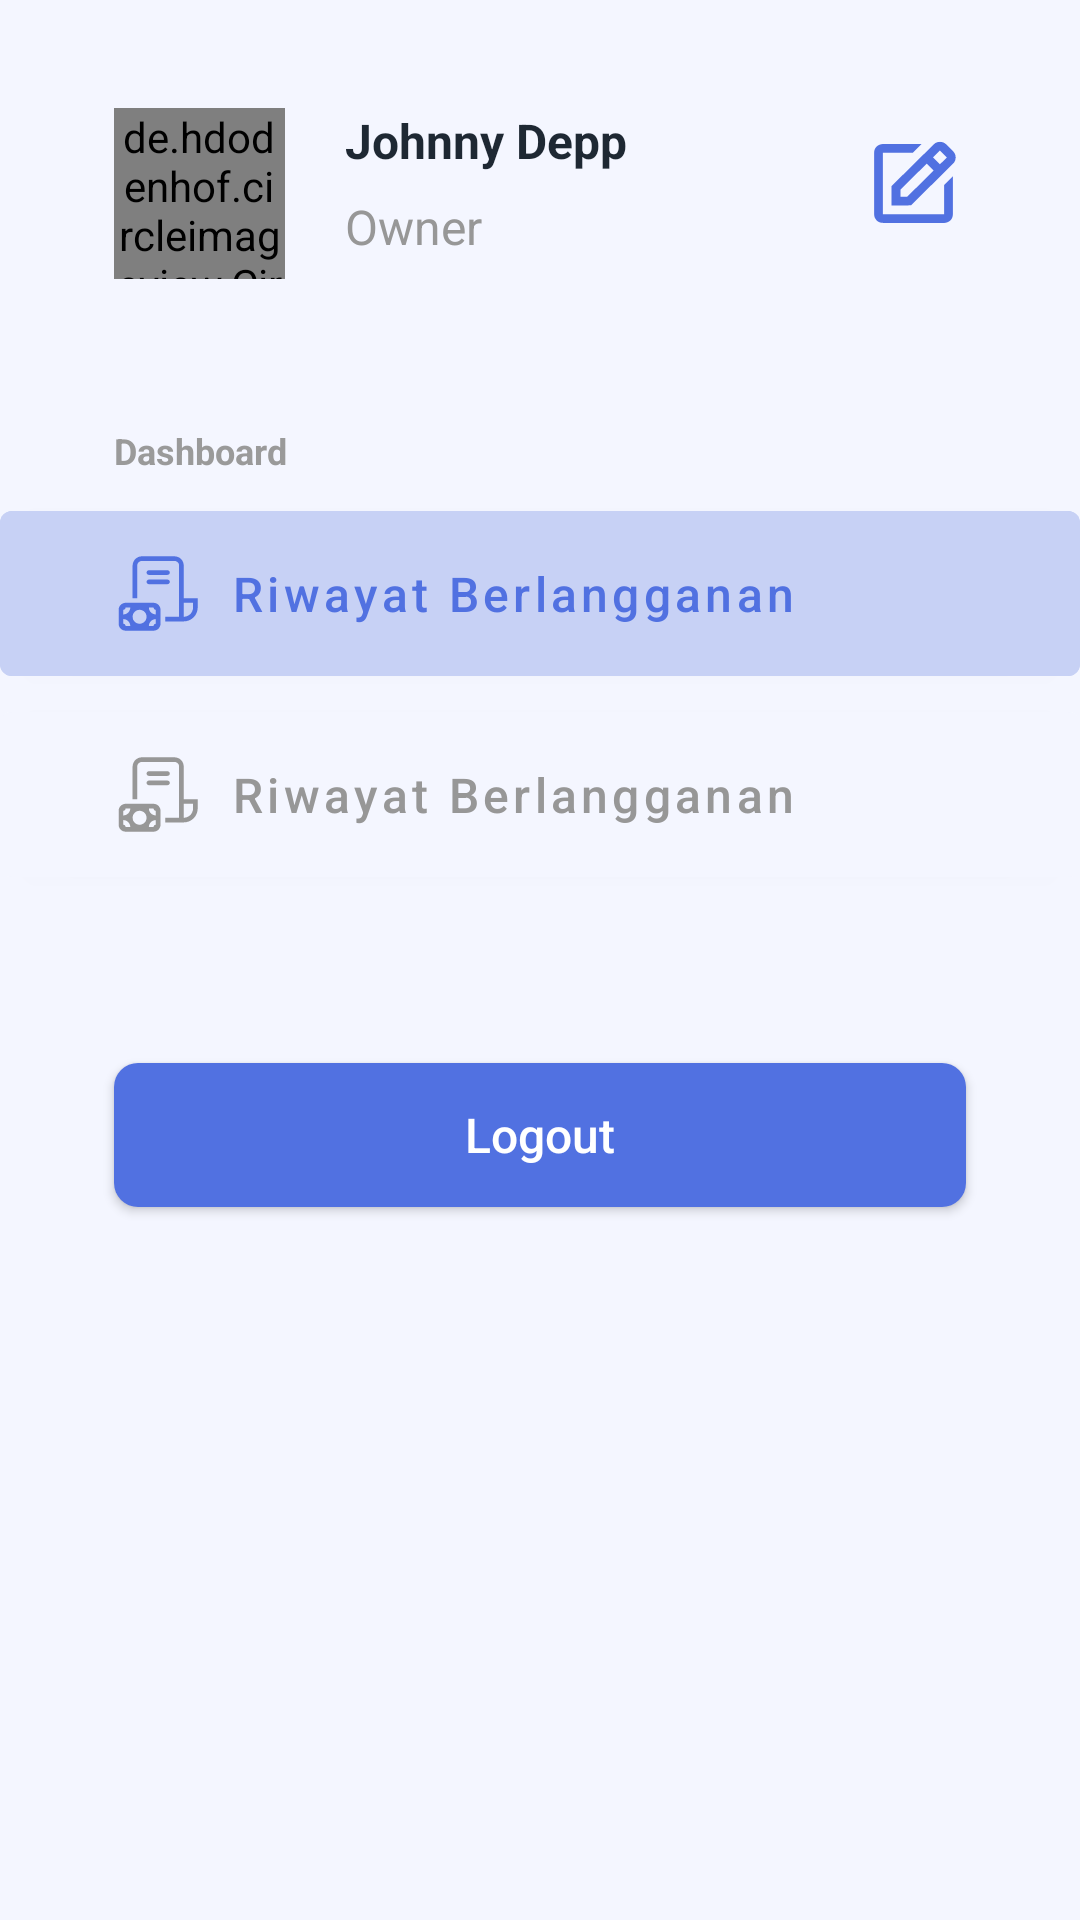

Point at icon controls on the screen. Image size 1080x1920, points as (x=x, y=y).
edit: (x=915, y=182)
